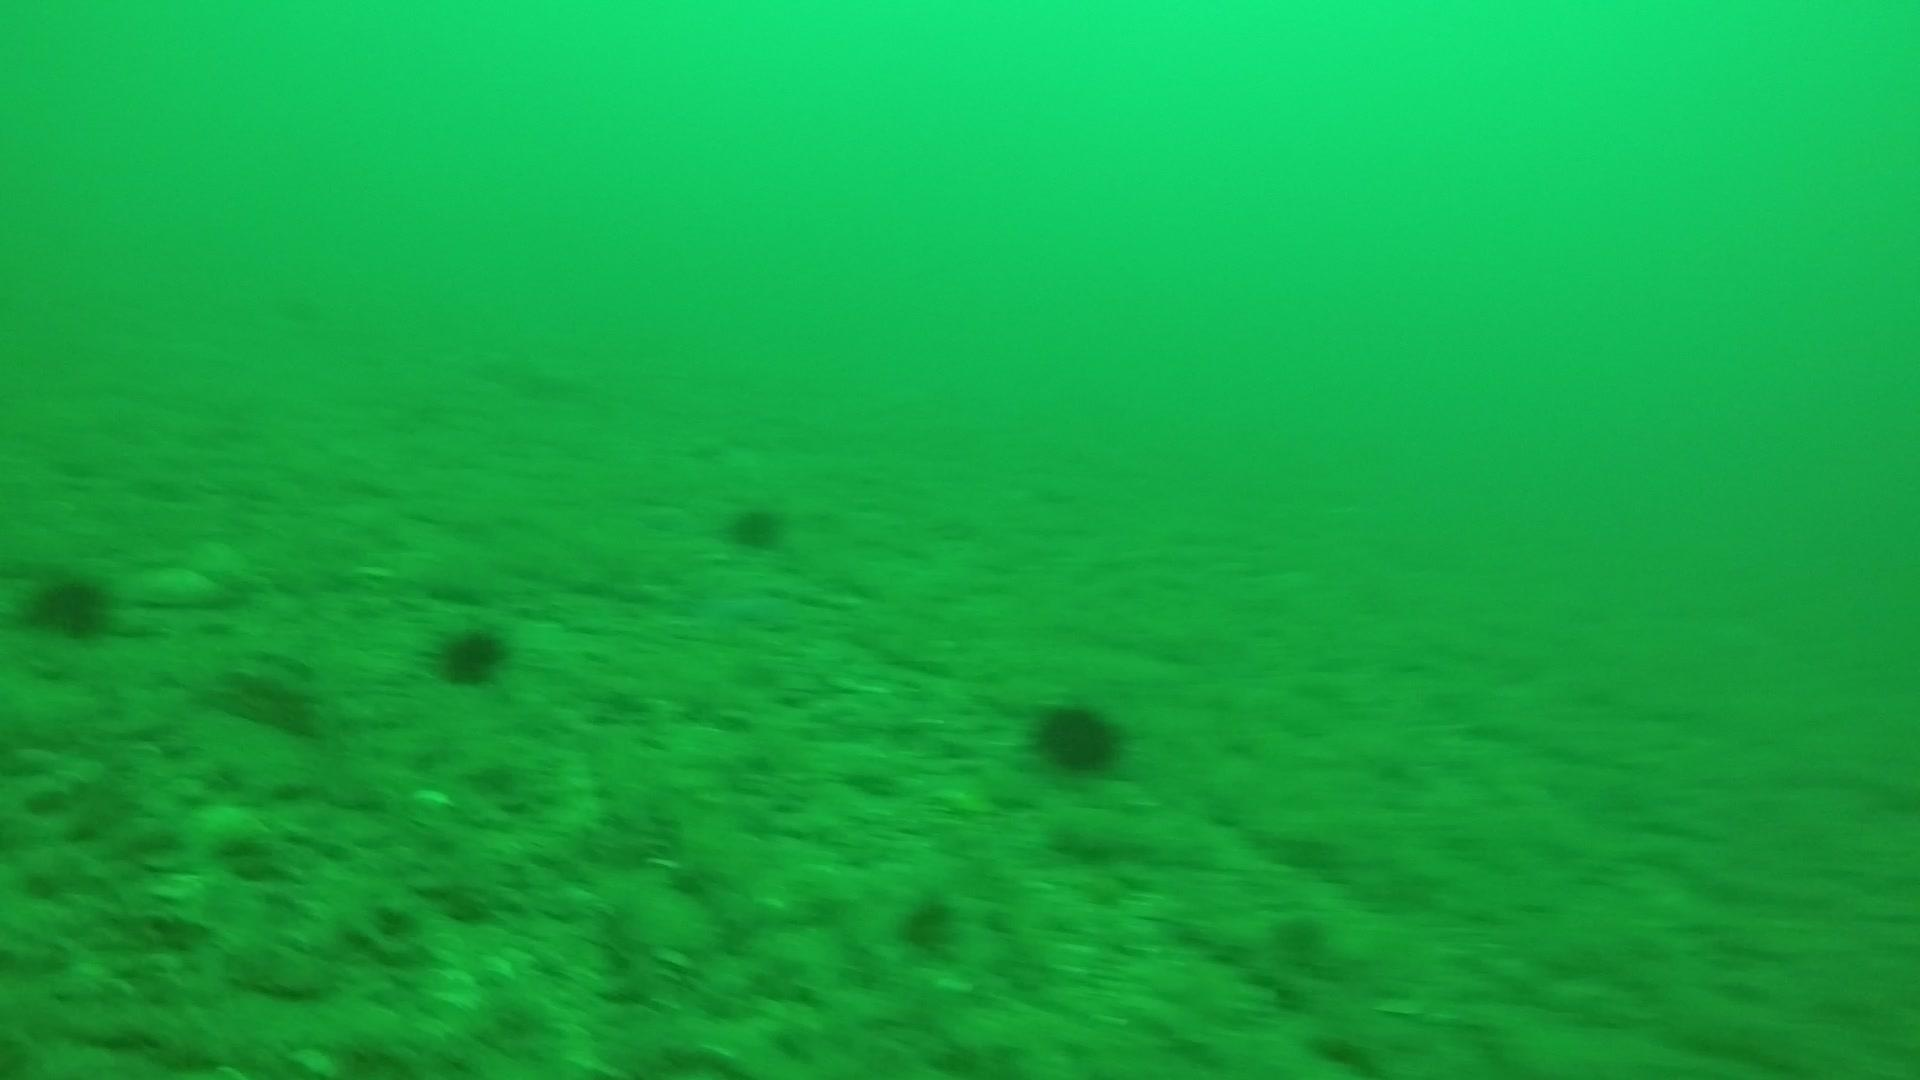echinus: (1025, 692, 1130, 782), (20, 560, 120, 645), (427, 616, 516, 690), (893, 887, 967, 959), (717, 495, 793, 556)
